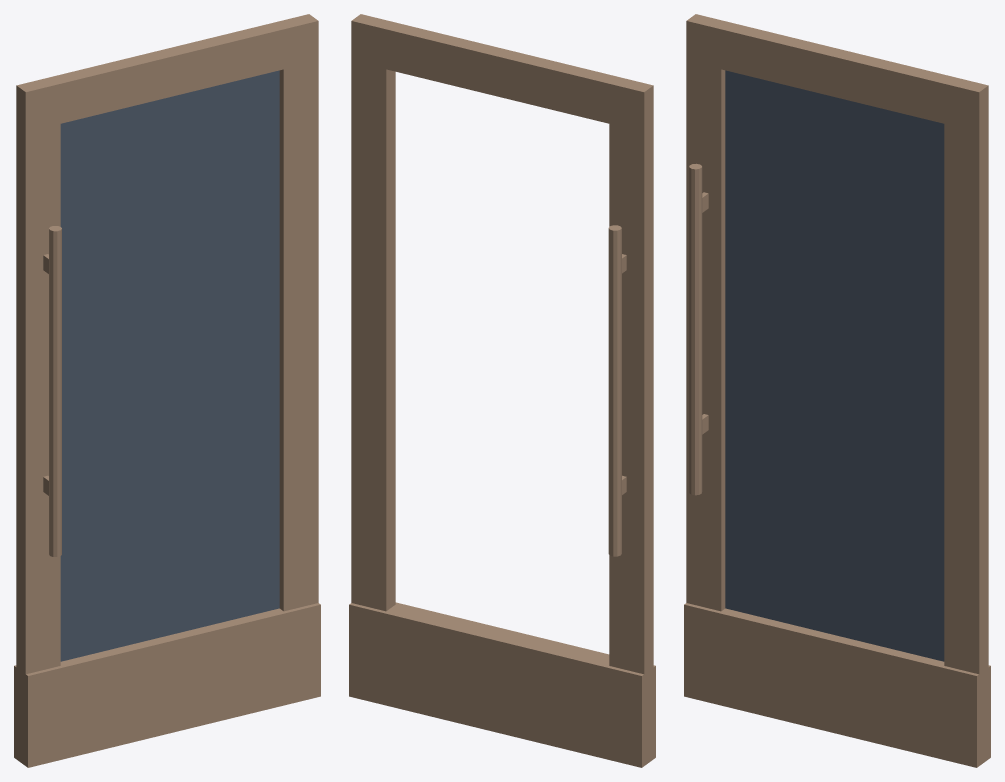
The model's file is env_block_door_2.glb.
3 views of the same model, side by side, from view 1: azimuth 30°, elevation 25°; view 2: azimuth 150°, elevation 25°; view 3: azimuth 330°, elevation 25° (orthographic).
Parts seen in each view (by area): view 1: part_1, part_0; view 2: part_0; view 3: part_1, part_0.
Part boxes in pixels (bbox=[...]): part_1: bbox=[60, 70, 279, 661]; part_0: bbox=[14, 14, 320, 767]; part_0: bbox=[349, 14, 655, 767]; part_1: bbox=[725, 70, 944, 661]; part_0: bbox=[684, 14, 990, 767].
Bounding box in the file's own units: 1 × 2.2 × 0.2103.
